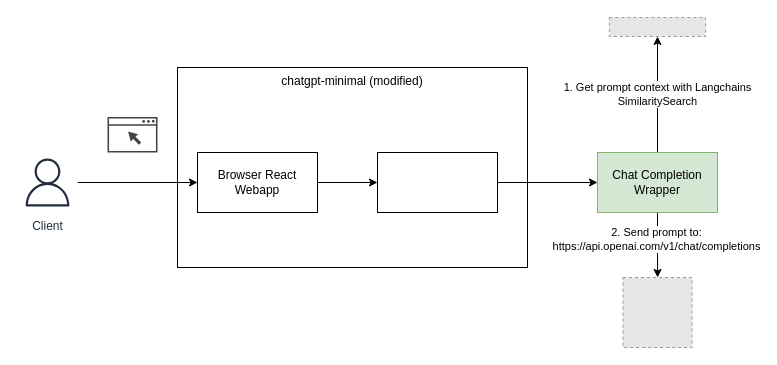
Some shapes in this 777 by 365 pixel diagram are drawn without their labels. Grey dashed boxes stand in for pictures. Each missing label, with the box of its shape:
Browser: (107, 116, 157, 152)
NodeJS Server: (376, 152, 498, 212)
